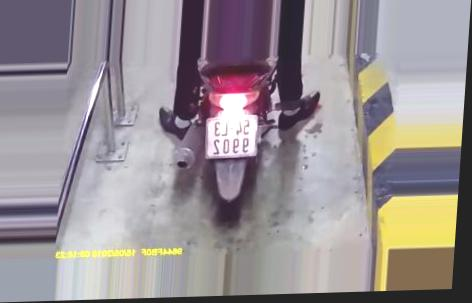License_Plate: (199, 112, 263, 163)
